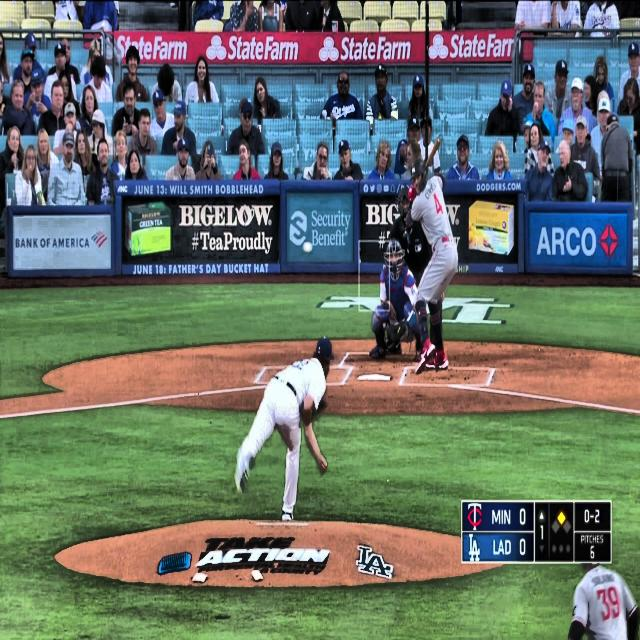baseball: (302, 240, 313, 254)
